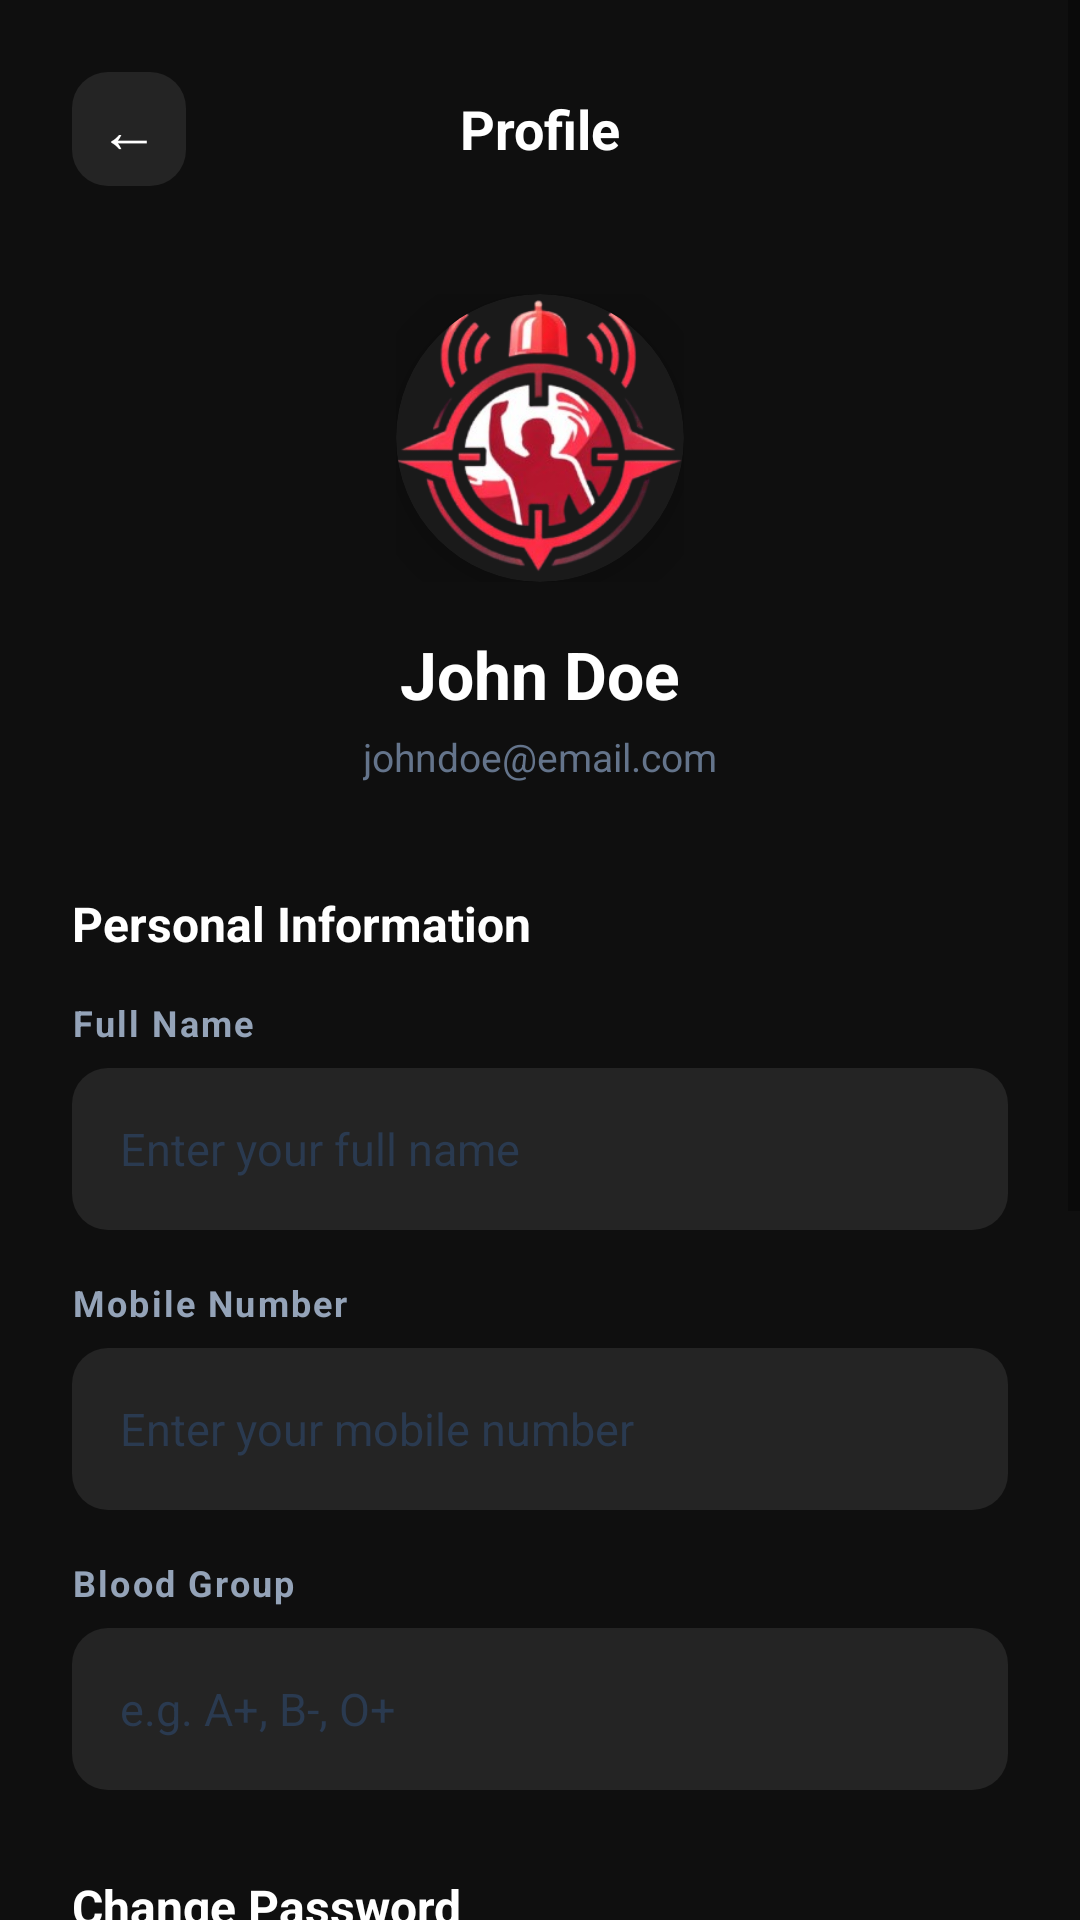

Icons on this 1080px×1920px Android screen, each with the point to tap as point (x, y):
app: point (540, 438)
